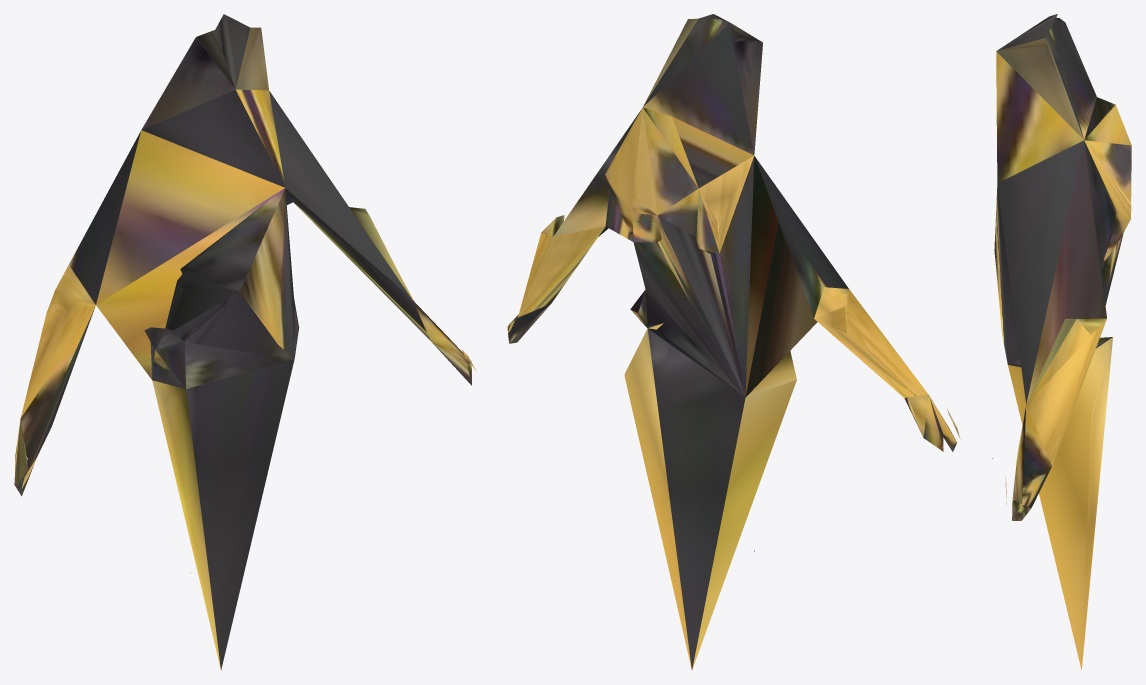
Rendered from golden_phoenix_lod2.glb.
3 views of the same model, side by side, from view 1: azimuth 30°, elevation 25°; view 2: azimuth 150°, elevation 25°; view 3: azimuth 270°, elevation 25° (orthographic). The views are drawn at different scales.
Visible parts, largest first — view 1: Mesh_0; view 2: Mesh_0; view 3: Mesh_0.
Part boxes in pixels (x1,y1,x2,y2): Mesh_0: (14, 14, 476, 670); Mesh_0: (507, 14, 960, 669); Mesh_0: (989, 14, 1131, 669).
Bounding box in the file's own units: 1.16 × 1.61 × 0.3198.
Materials: 1 (1 with a texture image).
